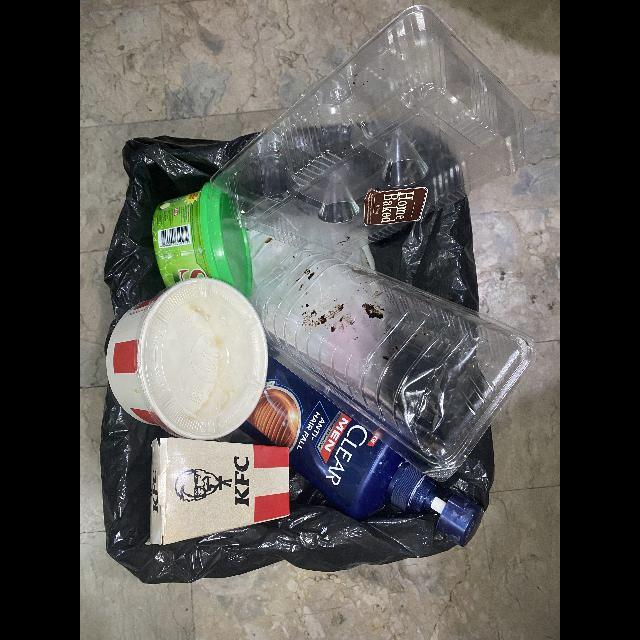cardboard: (146, 438, 290, 546)
paper: (106, 278, 268, 441)
plastic_bottle: (240, 357, 485, 548)
plastic_container: (210, 5, 536, 254), (249, 249, 537, 482), (152, 182, 252, 300)
